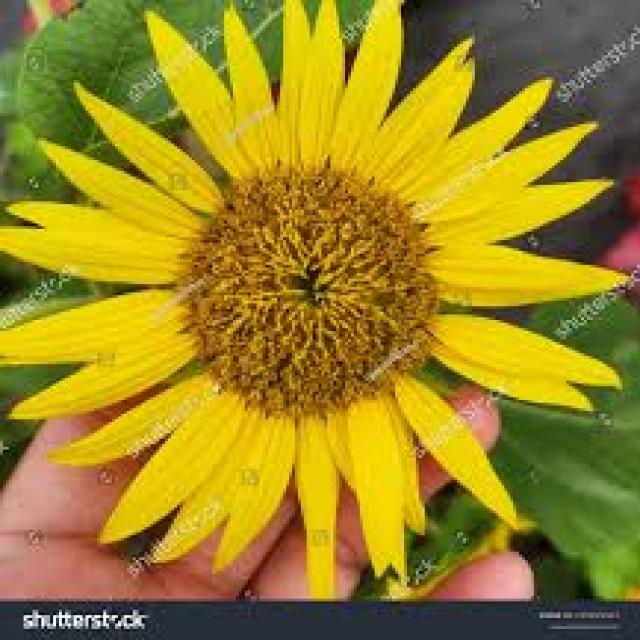sunflower: (1, 1, 640, 598)
